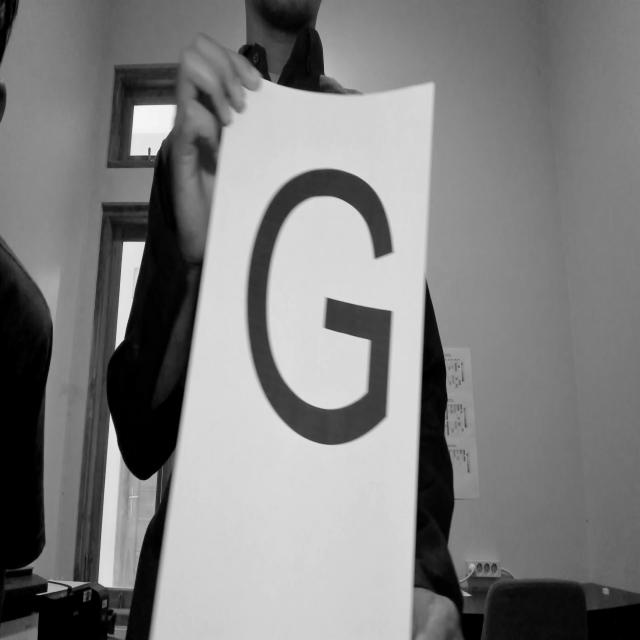g: (218, 132, 406, 478)
